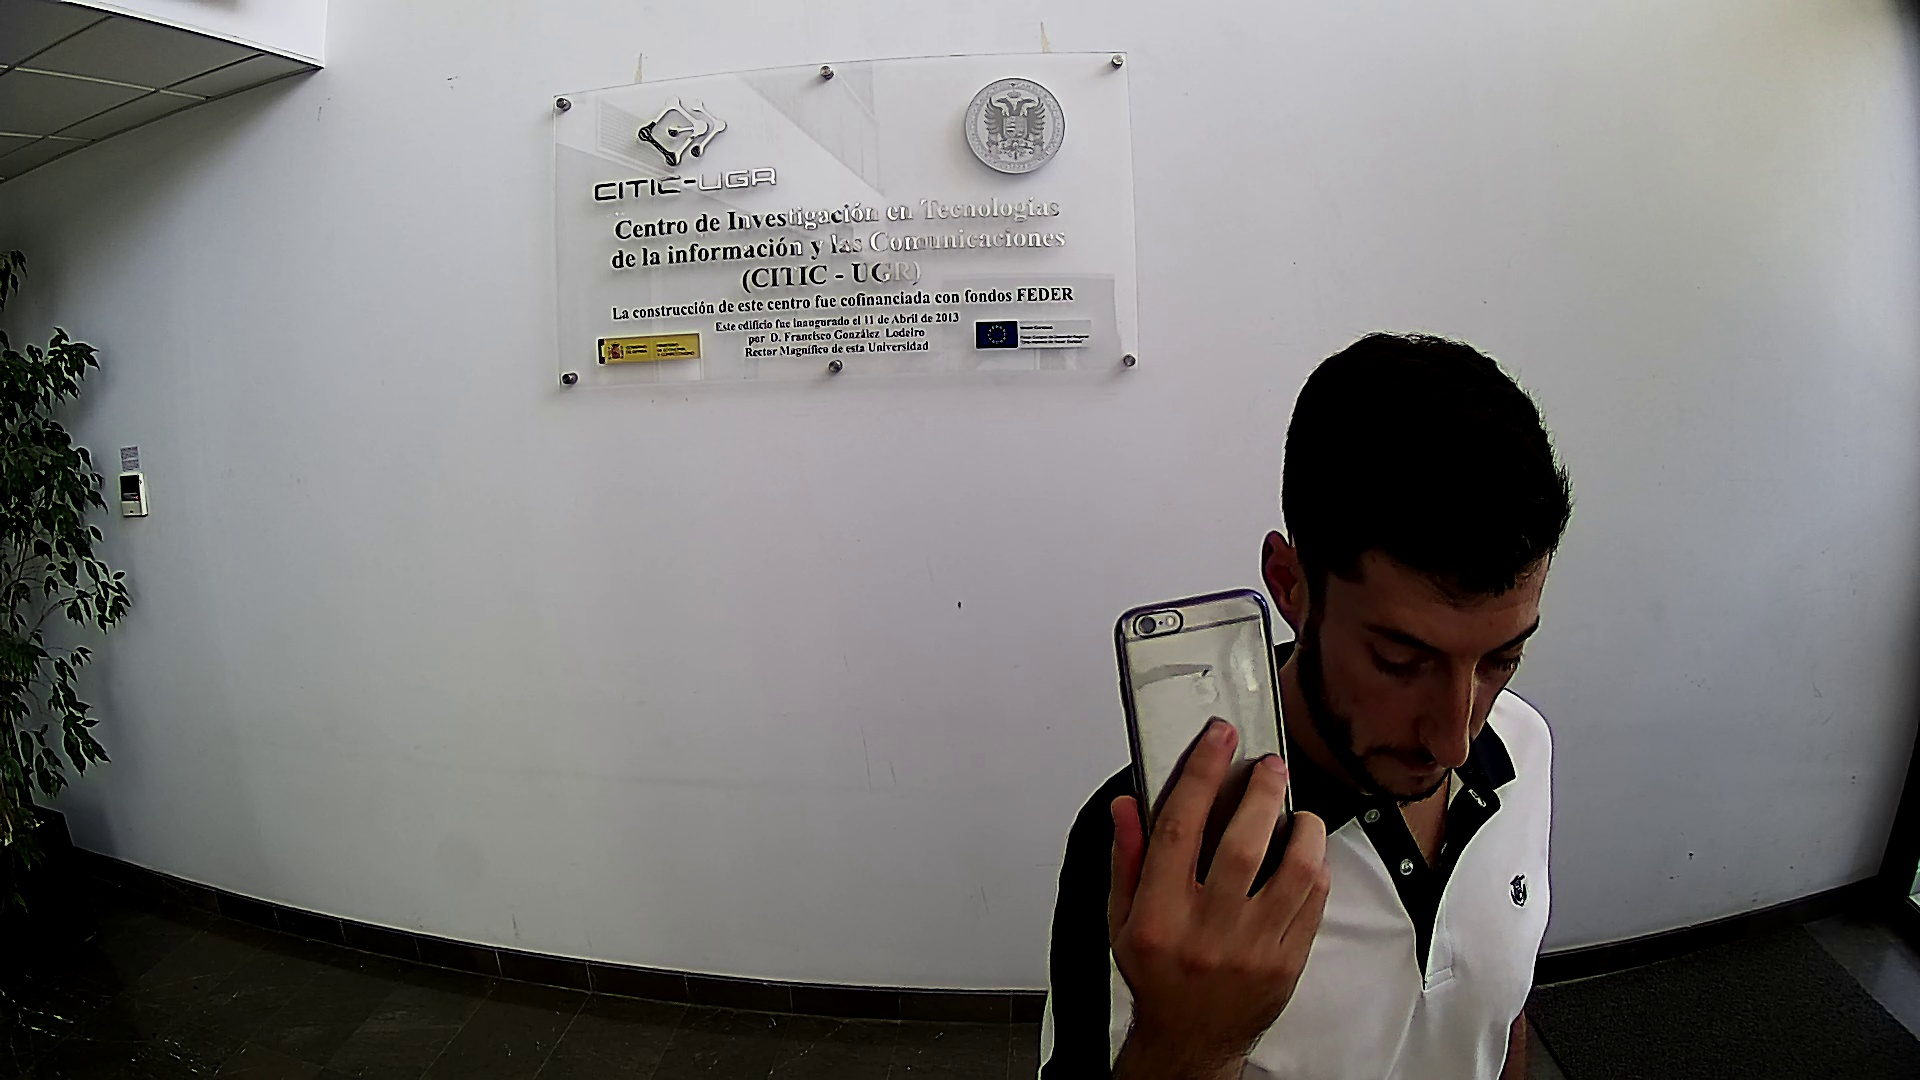smartphone: (1112, 584, 1299, 902)
